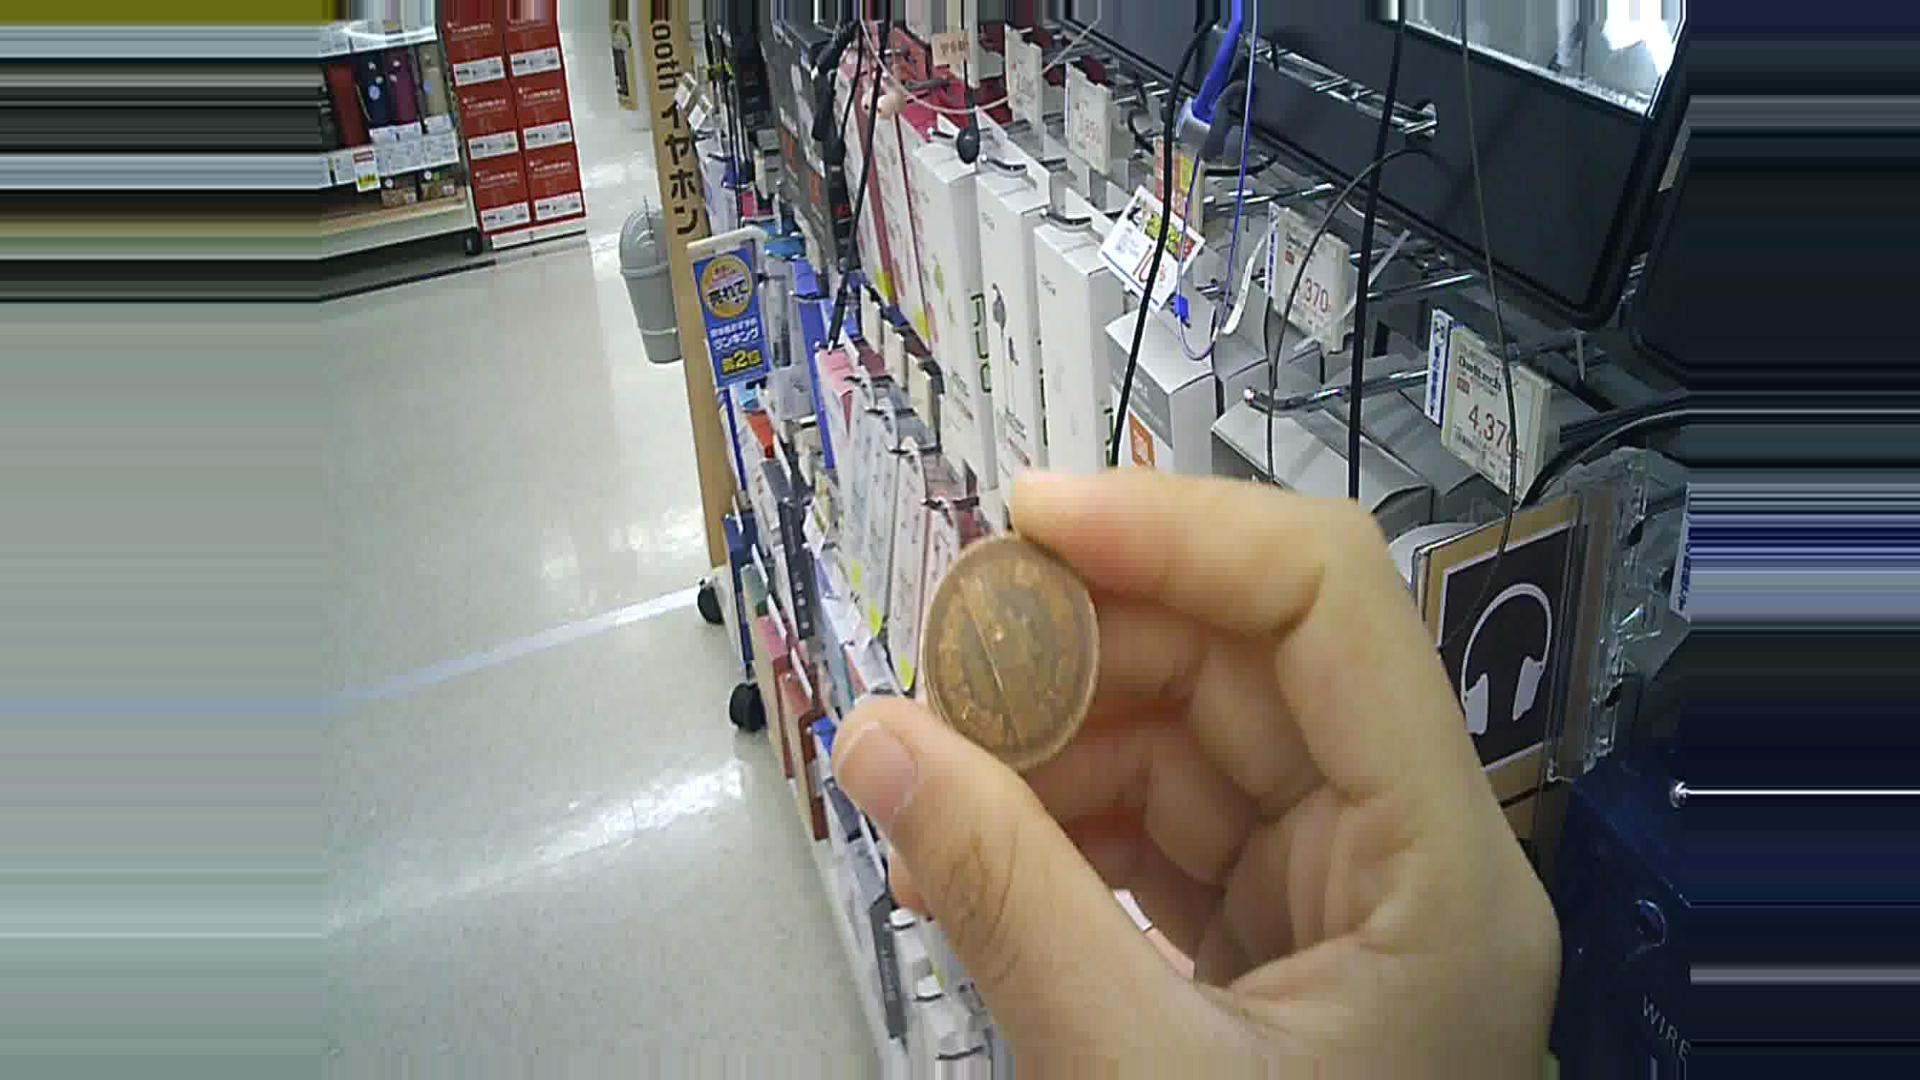10 Yen: (919, 512, 1113, 796)
